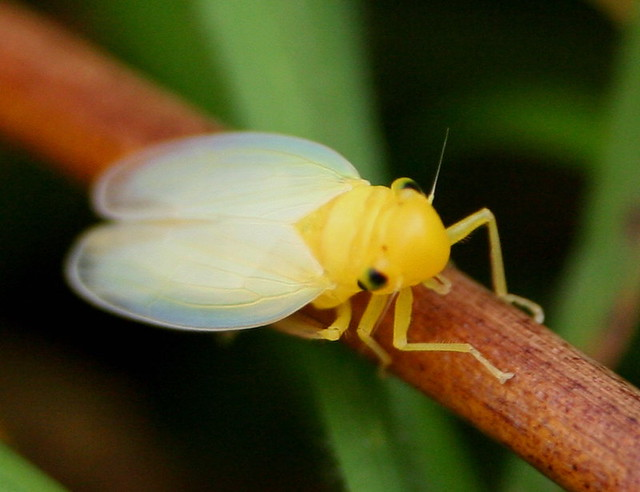Tobacco Whitefly: (68, 115, 568, 388)
